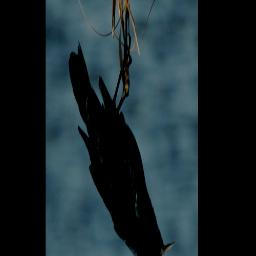Crow: (69, 33, 175, 256)
